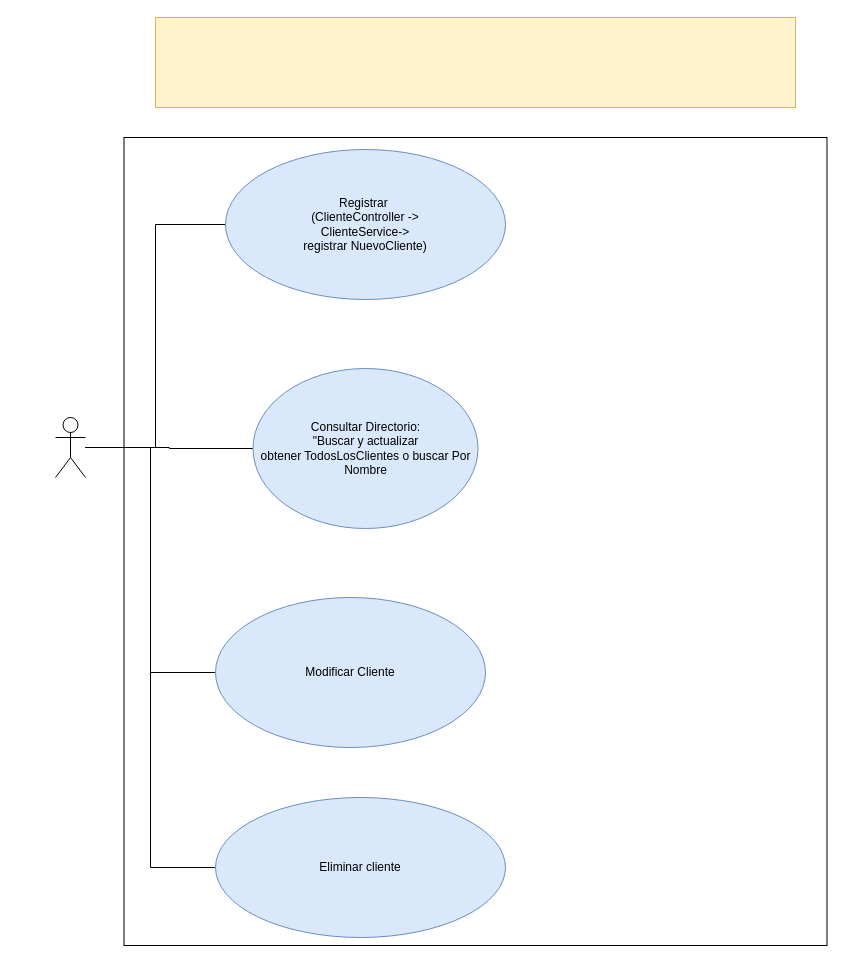
This 845x963 diagram has some shape labels left out. Here are the shapes that lost their labels. From the top down, the box of each, then its label:
(154, 16, 796, 108): Sistema de Gestion de Clientes
(54, 416, 86, 478): Usuario del Sistema
